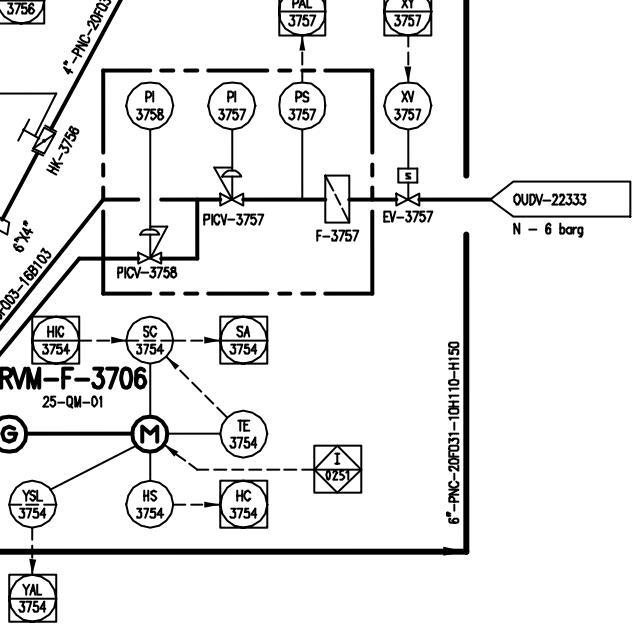BV: (15, 116, 55, 158)
F2: (320, 170, 354, 226)
PCV: (208, 162, 247, 206), (134, 220, 168, 265)
RVM: (0, 411, 173, 457)
SV: (393, 164, 423, 207)
